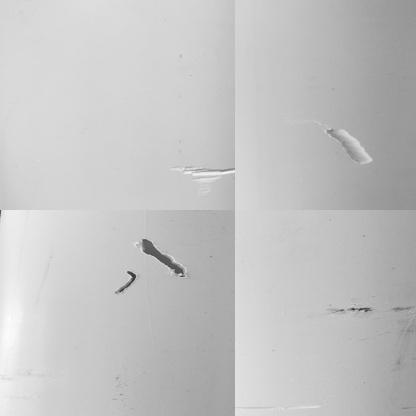fengxi: (113, 265, 142, 301)
kongdong: (140, 232, 185, 277)
sunshang: (321, 119, 376, 168), (173, 161, 234, 197)
